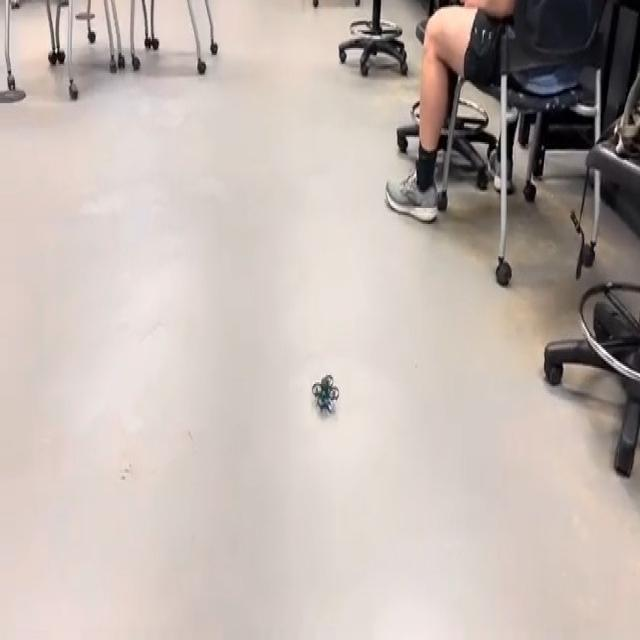drone: (304, 358, 347, 425)
